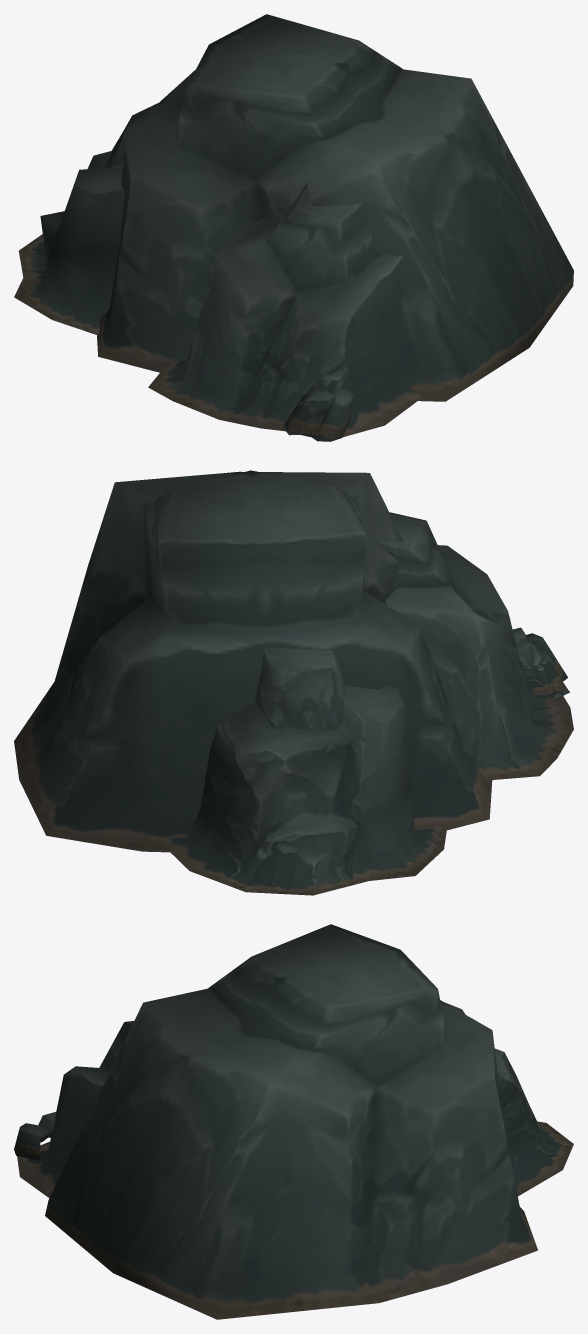
The model's file is oTerHill01d.FBX.
3 views of the same model, one above another, from view 1: azimuth 30°, elevation 25°; view 2: azimuth 150°, elevation 25°; view 3: azimuth 270°, elevation 25° (orthographic). The views are drawn at different scales.
Visible parts, largest first — view 1: oTerHill01d; view 2: oTerHill01d; view 3: oTerHill01d.
Boxes of the visible parts, <box> form: oTerHill01d: <box>14,14,573,441</box>; oTerHill01d: <box>14,470,573,895</box>; oTerHill01d: <box>14,924,573,1319</box>.
Bounding box in the file's own units: 72.45 × 80.96 × 39.07.
